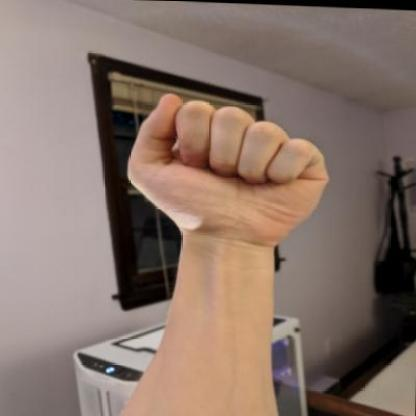A: (120, 86, 339, 260)
